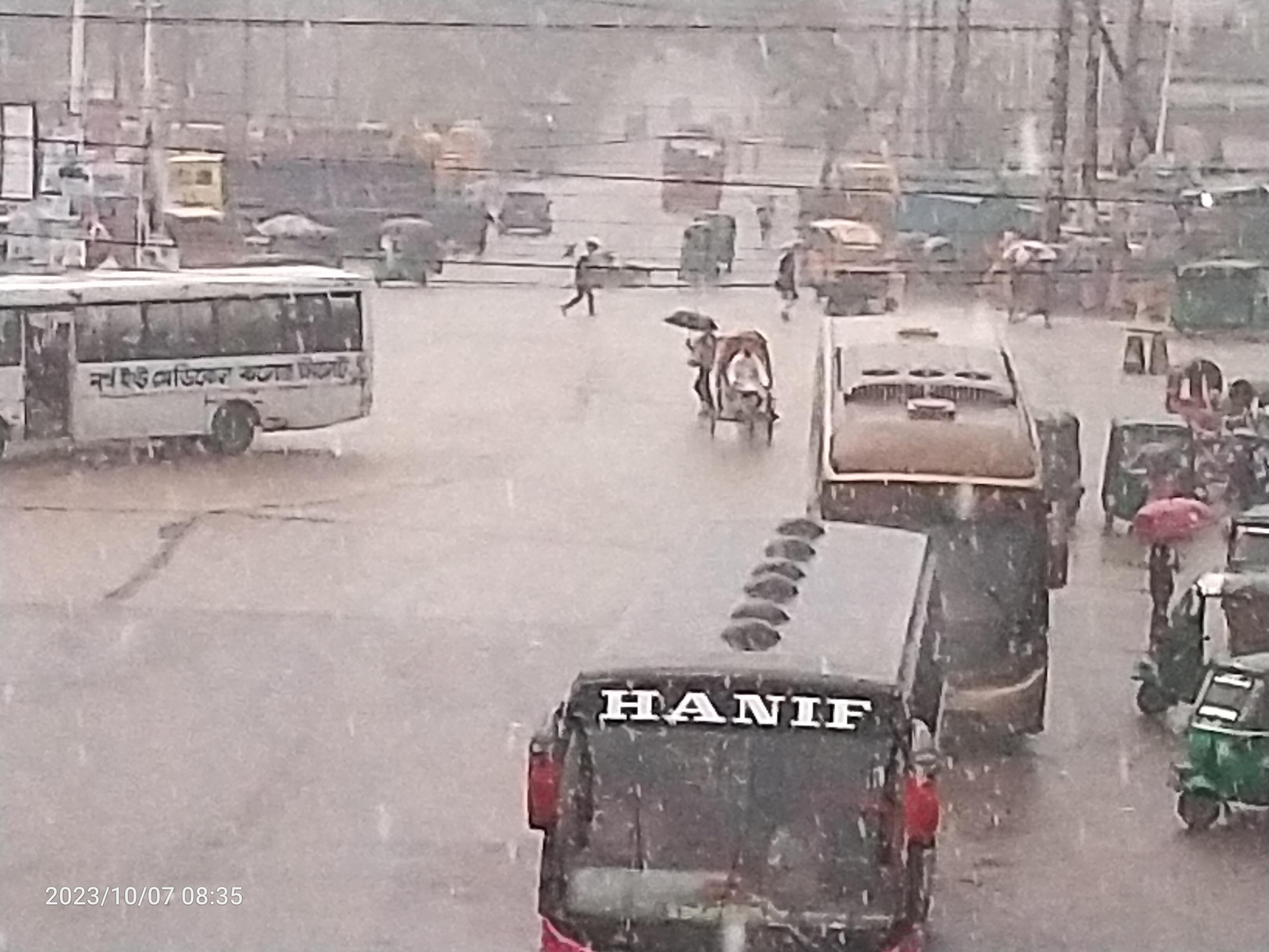Bus: (494, 491, 1029, 952), (781, 293, 1097, 761), (0, 237, 412, 503), (636, 115, 733, 231)
Car: (674, 297, 799, 465), (1151, 349, 1254, 456)
Truck: (141, 101, 455, 264)
